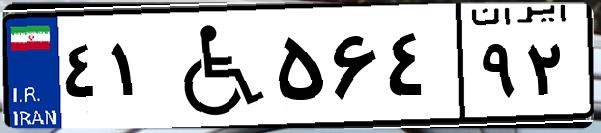1: (110, 28, 158, 98)
2: (525, 38, 570, 115)
4: (385, 28, 445, 110), (57, 26, 110, 100)
5: (270, 28, 330, 110)
6: (330, 28, 385, 110)
9: (475, 38, 525, 113)
ژ (معلولین و جانبازان): (158, 12, 270, 120)
